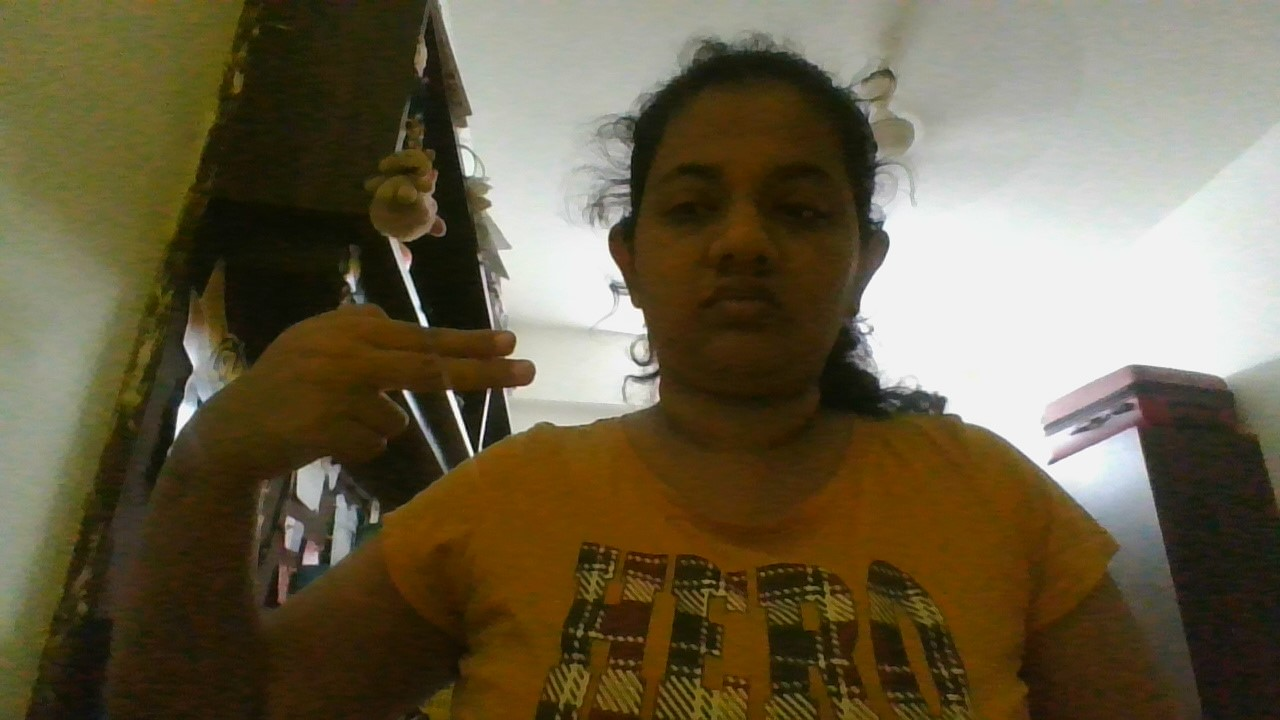h: (169, 294, 554, 485)
